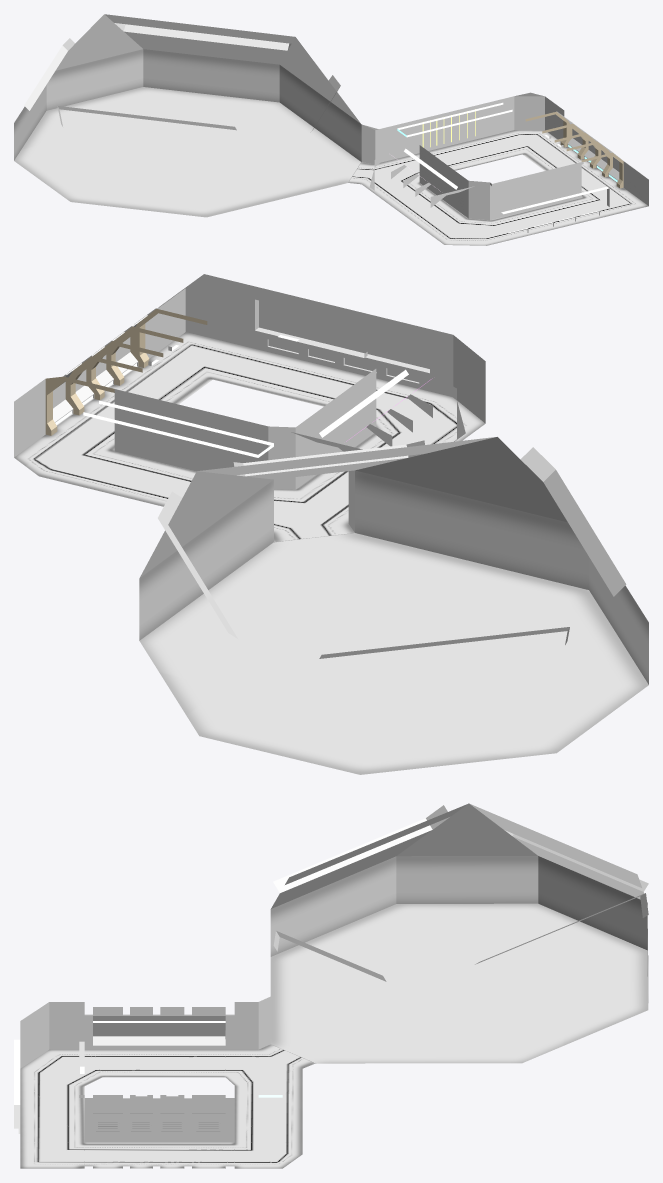
Rendered from zone.glb.
The picture shows the model from 3 angles, top to bottom: view 1: azimuth 30°, elevation 25°; view 2: azimuth 150°, elevation 25°; view 3: azimuth 270°, elevation 25°; orthographic projection. The views are drawn at different scales.
Parts seen in each view (by area): view 1: zone; view 2: zone; view 3: zone.
Boxes of the visible parts, x1,y1,x2,y2 form: zone: (14,14,648,245); zone: (14,274,648,774); zone: (14,803,648,1168).
Size of the model in its own units: 51.11 by 9.73 by 51.24.
Materials: 5 (1 with a texture image).
